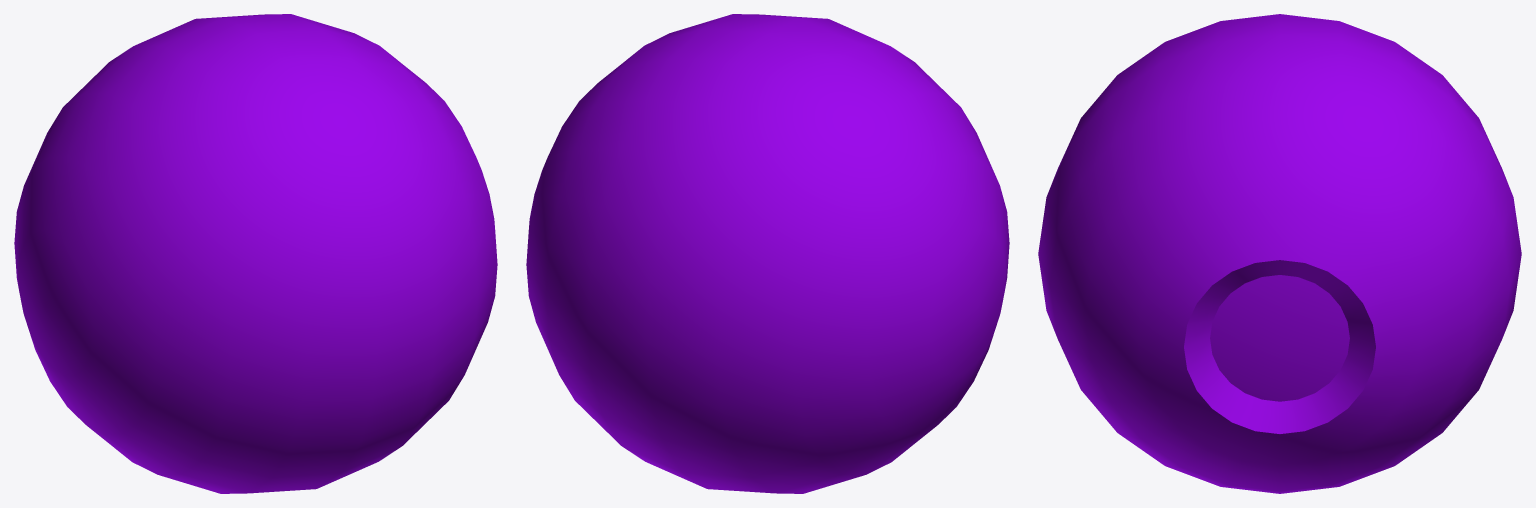
The model's file is Enemy_Sphere.fbx.
3 renders of one model, left to right at view 1: azimuth 30°, elevation 25°; view 2: azimuth 150°, elevation 25°; view 3: azimuth 270°, elevation 25°, orthographic.
Visible parts, largest first — view 1: Enemy_Sphere; view 2: Enemy_Sphere; view 3: Enemy_Sphere.
Part boxes in pixels (x1,y1,x2,y2): Enemy_Sphere: (14, 14, 497, 493); Enemy_Sphere: (526, 14, 1009, 493); Enemy_Sphere: (1038, 14, 1521, 493).
Bounding box in the file's own units: 123 × 123 × 117.
